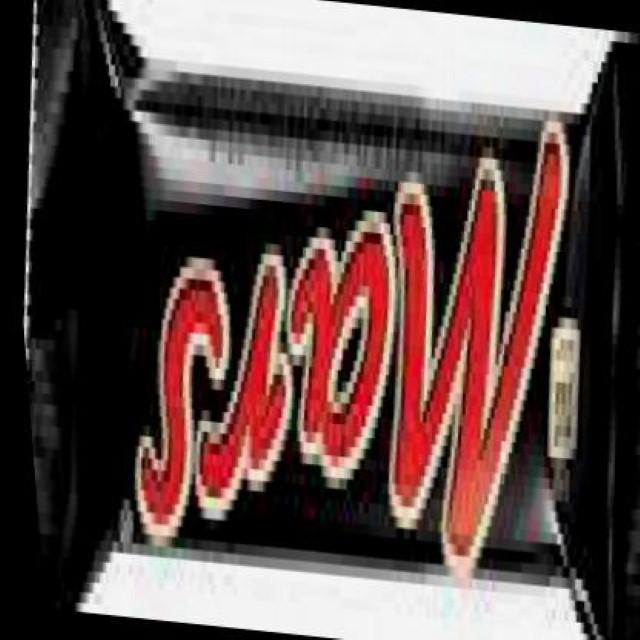mars_chocolate: (13, 56, 640, 578)
